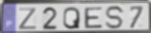2: (41, 6, 59, 32)
7: (130, 5, 145, 29)
E: (84, 6, 104, 29)
Q: (62, 6, 81, 31)
S: (105, 5, 126, 30)
Z: (17, 7, 38, 30)
